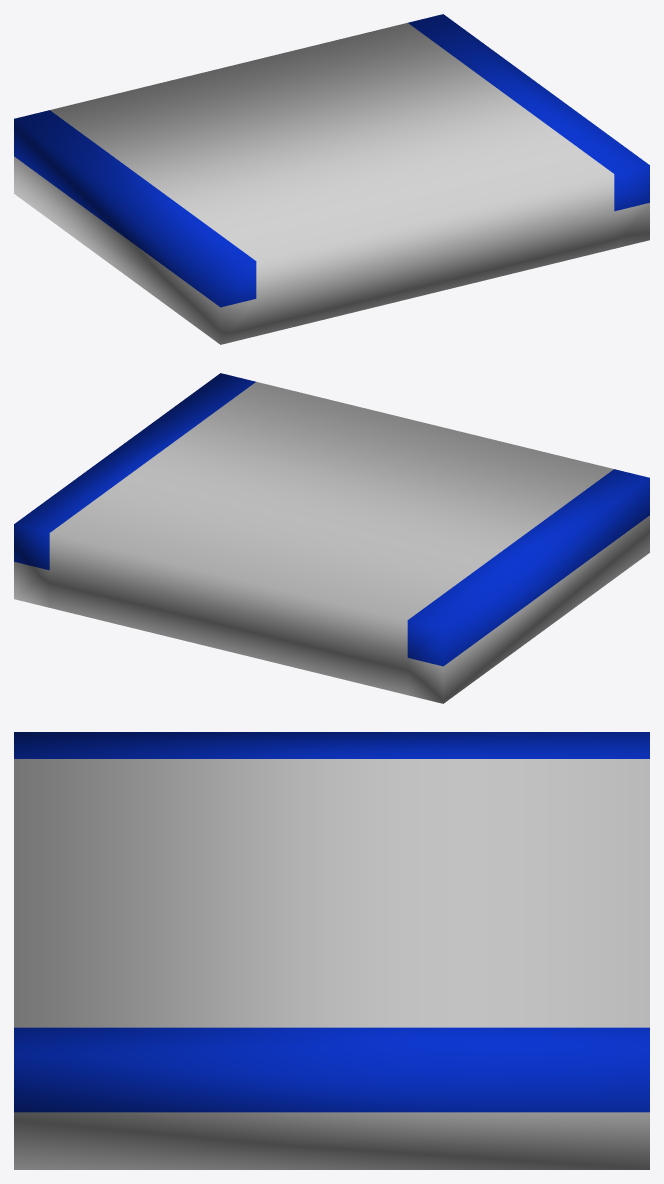
Rendered from RampDefault.fbx.
3 views of the same model, one above another, from view 1: azimuth 30°, elevation 25°; view 2: azimuth 150°, elevation 25°; view 3: azimuth 270°, elevation 25° (orthographic). The views are drawn at different scales.
Visible parts, largest first — view 1: Mesh; view 2: Mesh; view 3: Mesh.
Boxes of the visible parts, left/top/right/bottom form: Mesh: left=14, top=14, right=649, bottom=344; Mesh: left=14, top=373, right=649, bottom=703; Mesh: left=14, top=732, right=649, bottom=1169.
Size of the model in its own units: 12000 by 2000 by 10000.
